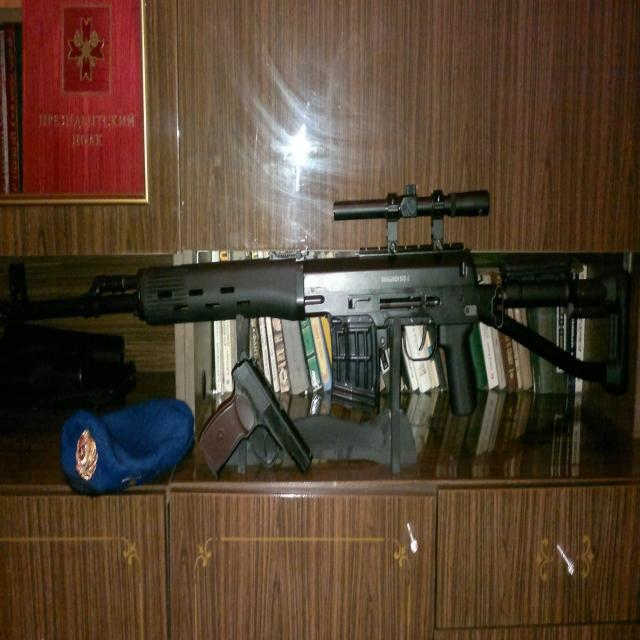firearm: (2, 184, 632, 416)
pistol: (196, 359, 314, 475)
